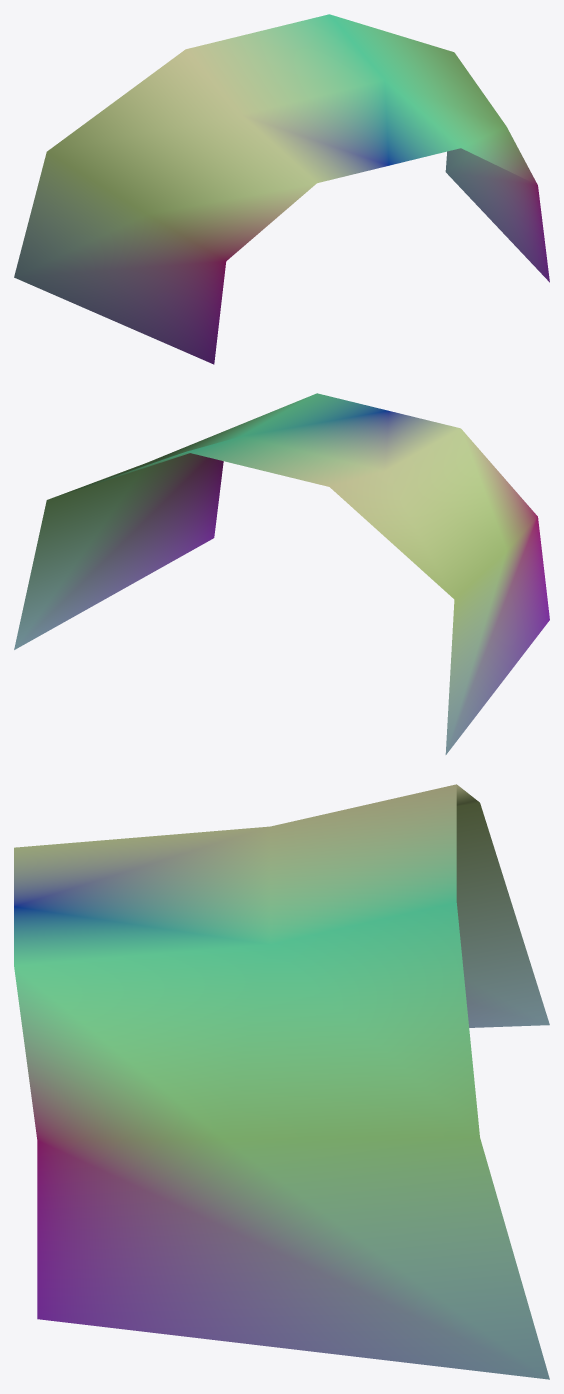
3 renders of one model, top to bottom at view 1: azimuth 30°, elevation 25°; view 2: azimuth 150°, elevation 25°; view 3: azimuth 270°, elevation 25°, orthographic. The views are drawn at different scales.
Visible parts, largest first — view 1: part; view 2: part; view 3: part.
Boxes of the visible parts, x1,y1,x2,y2 form: part: (14, 14, 549, 364); part: (14, 393, 549, 754); part: (14, 784, 549, 1379).
Bounding box in the file's own units: 36 × 17 × 23.
